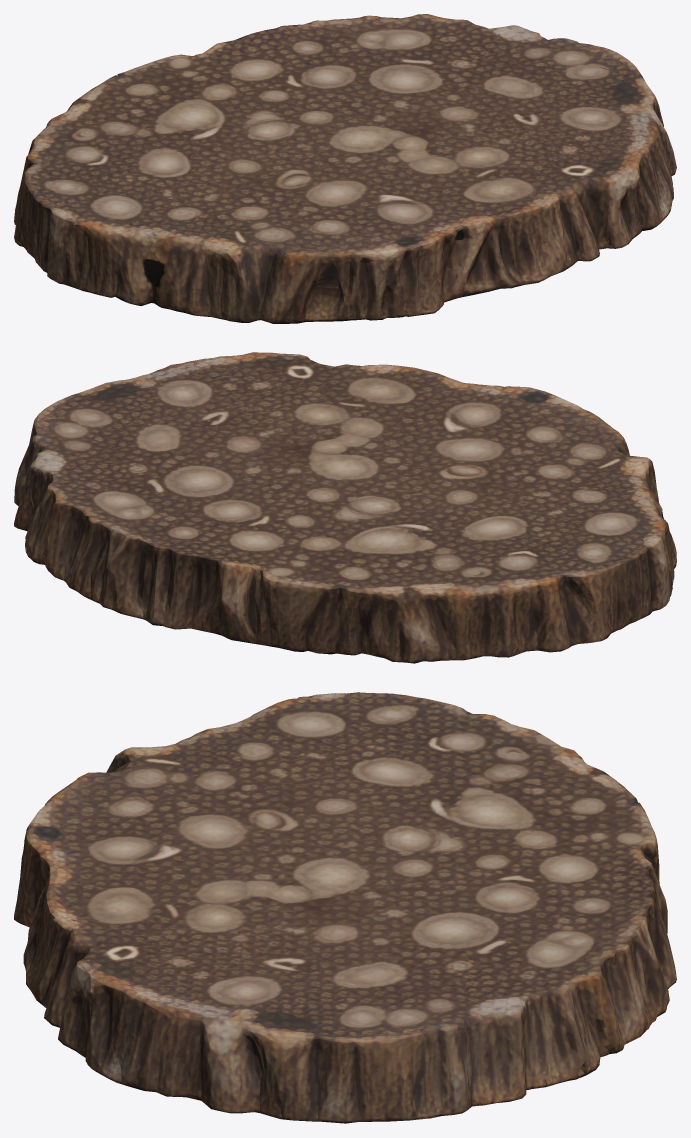
The picture shows the model from 3 angles, top to bottom: view 1: azimuth 30°, elevation 25°; view 2: azimuth 150°, elevation 25°; view 3: azimuth 270°, elevation 25°; orthographic projection. The views are drawn at different scales.
Parts seen in each view (by area): view 1: geometry_0; view 2: geometry_0; view 3: geometry_0.
Part boxes in pixels (<box>): geometry_0: <box>14,14,676,323</box>; geometry_0: <box>14,352,676,663</box>; geometry_0: <box>14,692,676,1123</box>.
Bounding box in the file's own units: 1 × 0.1142 × 0.7803.
1 material, 1 textured.
